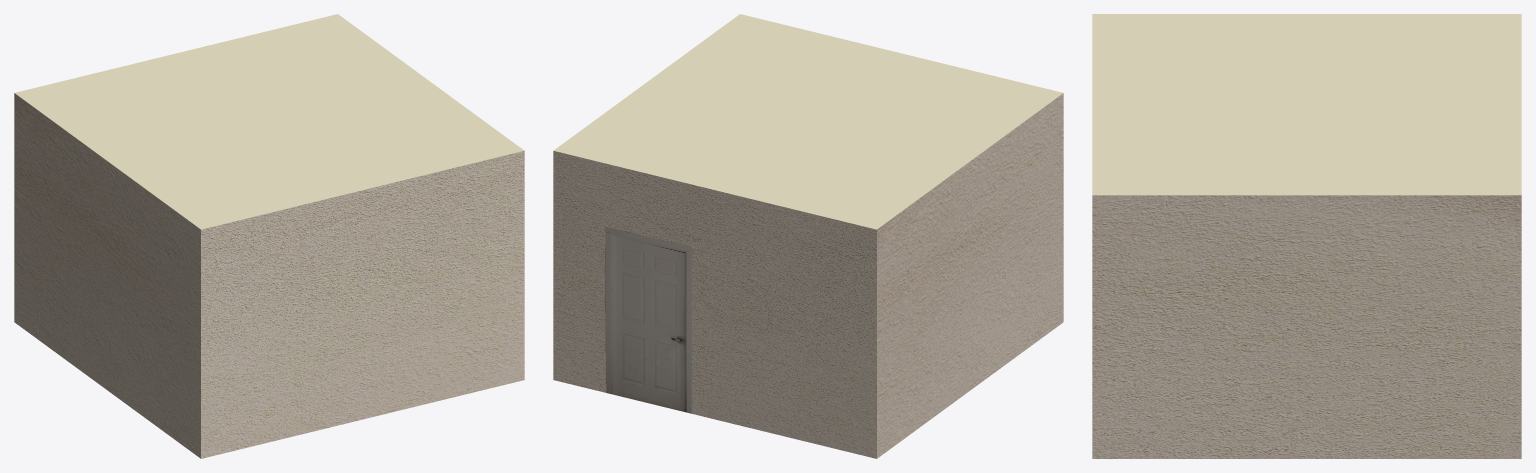
Rendered from lavaLamp.glb.
3 views of the same model, side by side, from view 1: azimuth 30°, elevation 25°; view 2: azimuth 150°, elevation 25°; view 3: azimuth 270°, elevation 25° (orthographic). The views are drawn at different scales.
Parts seen in each view (by area): view 1: Room, Ceiling; view 2: Room, Ceiling; view 3: Room, Ceiling.
Boxes of the visible parts, <box> form: Room: <box>14,93,524,458</box>; Ceiling: <box>15,14,524,229</box>; Room: <box>553,93,1063,458</box>; Ceiling: <box>553,14,1062,229</box>; Room: <box>1092,195,1521,458</box>; Ceiling: <box>1092,14,1521,195</box>.
Bounding box in the file's own units: 9.23 × 6.25 × 9.23.
Materials: 13 (9 with a texture image).
